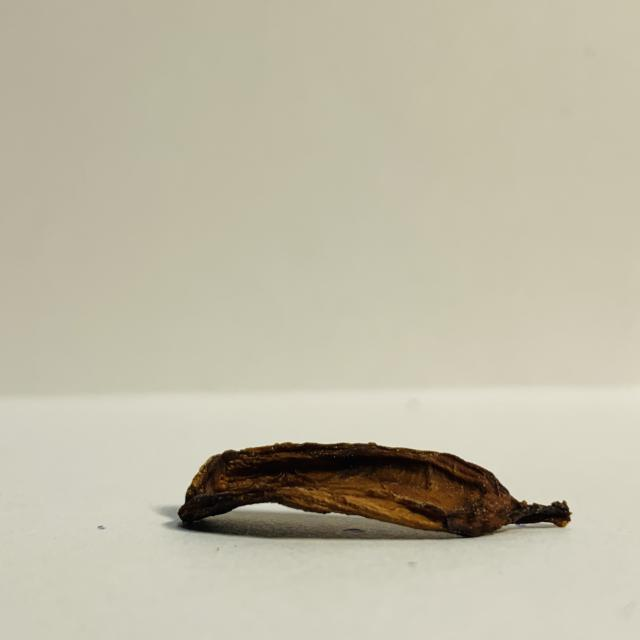Flat_cocoabeans: (113, 409, 572, 574)
